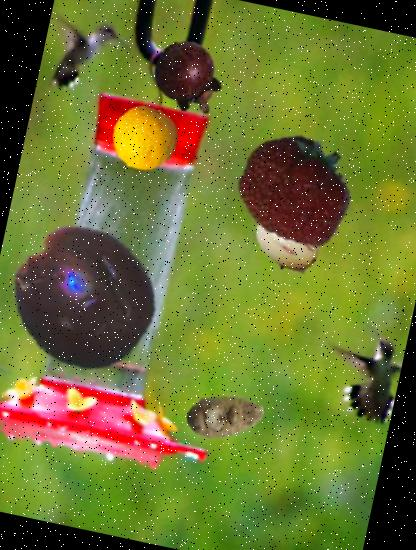Cantaloupe: (106, 101, 183, 178)
Ginger: (178, 370, 272, 463)
Mangostan: (142, 33, 236, 126)
Passion: (0, 208, 172, 386)
Pepino: (244, 205, 326, 287)
Strawberry: (226, 118, 370, 262)
